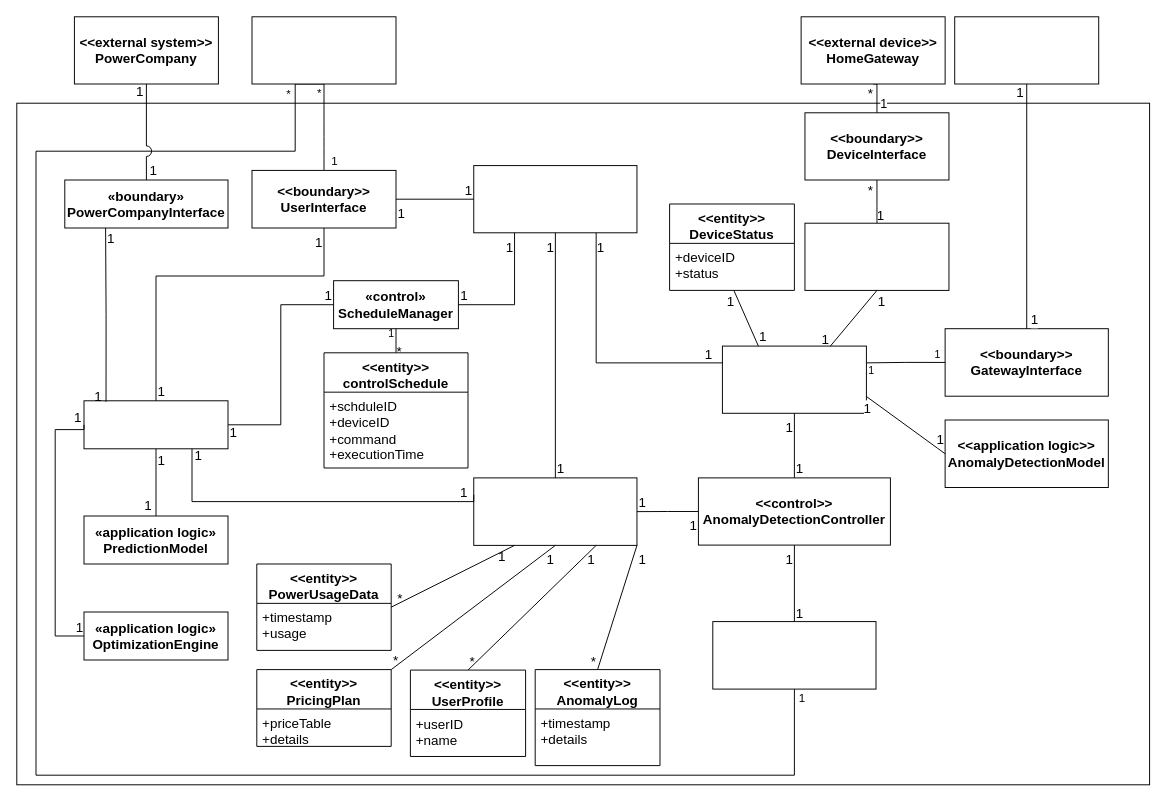
Some shapes in this 1166 by 802 pixel diagram are drawn without their labels. The shapes that lost their labels are listed below. From the top down, each one's centre as x and y in pixels, then its label:
the point at 323,50: <<user>> User
the point at 1026,50: <<external timer>> Clock
the point at 555,199: <<control>> DeviceControlController
the point at 876,256: <<application logic>> CommandExecutor
the point at 793,379: <<control>> GatewayController
the point at 155,424: <<control>> PredictionController
the point at 555,511: <<control>> DataManager
the point at 794,655: <<boundary>> NotificationInterface
